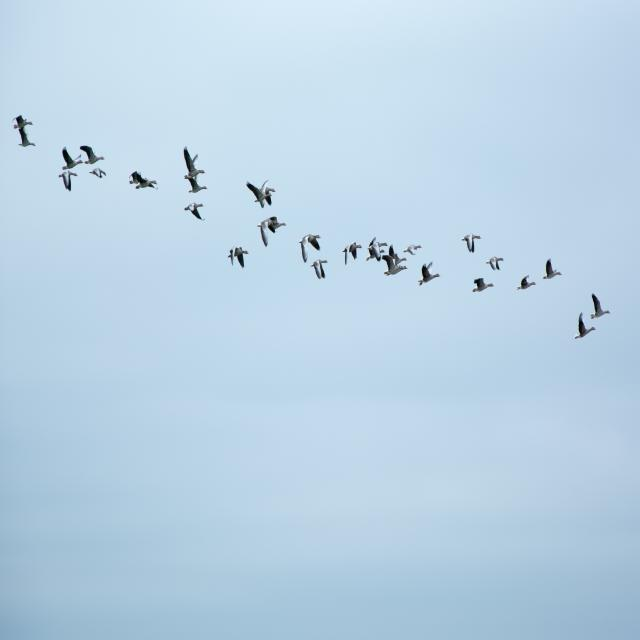bird: (257, 214, 287, 247), (244, 180, 275, 208), (12, 114, 35, 150), (382, 244, 404, 275), (129, 172, 159, 194), (180, 147, 204, 174), (78, 145, 106, 168), (574, 312, 595, 340), (417, 263, 440, 288), (300, 231, 322, 257), (591, 293, 612, 319), (226, 245, 249, 268), (183, 178, 209, 198), (307, 257, 329, 280), (182, 201, 205, 223), (459, 233, 483, 254), (58, 170, 78, 195), (542, 258, 563, 281), (341, 240, 362, 263), (364, 238, 383, 263), (470, 276, 494, 295), (59, 149, 79, 170), (483, 255, 507, 272), (515, 275, 537, 292), (402, 242, 424, 255), (88, 168, 108, 180)
